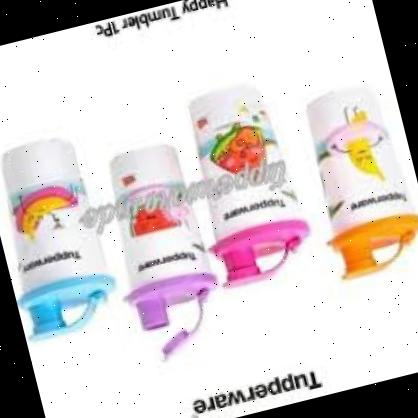bottle: (88, 131, 237, 374), (173, 72, 322, 308), (0, 129, 128, 369), (291, 68, 418, 298)
